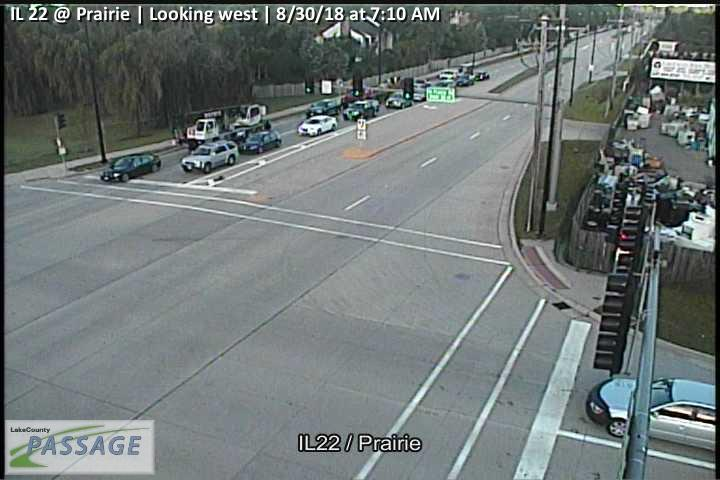SUV: (180, 139, 239, 174), (344, 98, 380, 121)
Sedan: (585, 376, 717, 450), (99, 151, 162, 182), (239, 130, 282, 154), (298, 114, 338, 136), (304, 98, 339, 116), (385, 92, 413, 109), (456, 74, 476, 86), (475, 71, 490, 80)
Truck: (183, 102, 271, 152)
